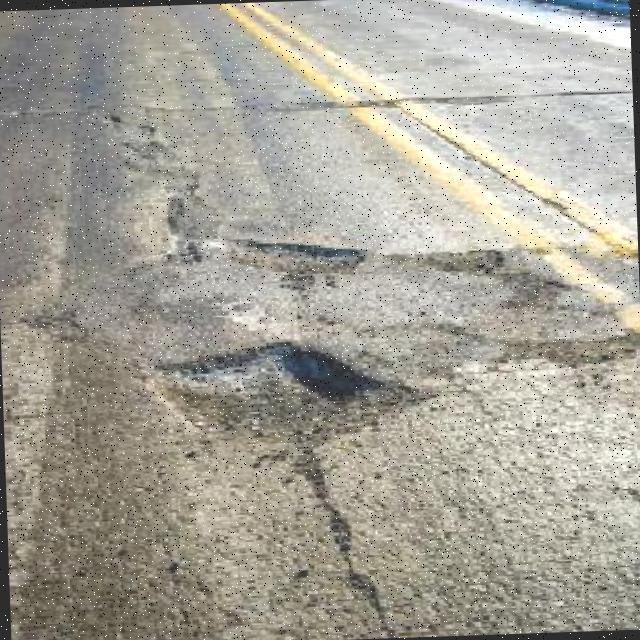Pothole: (146, 342, 420, 500)
